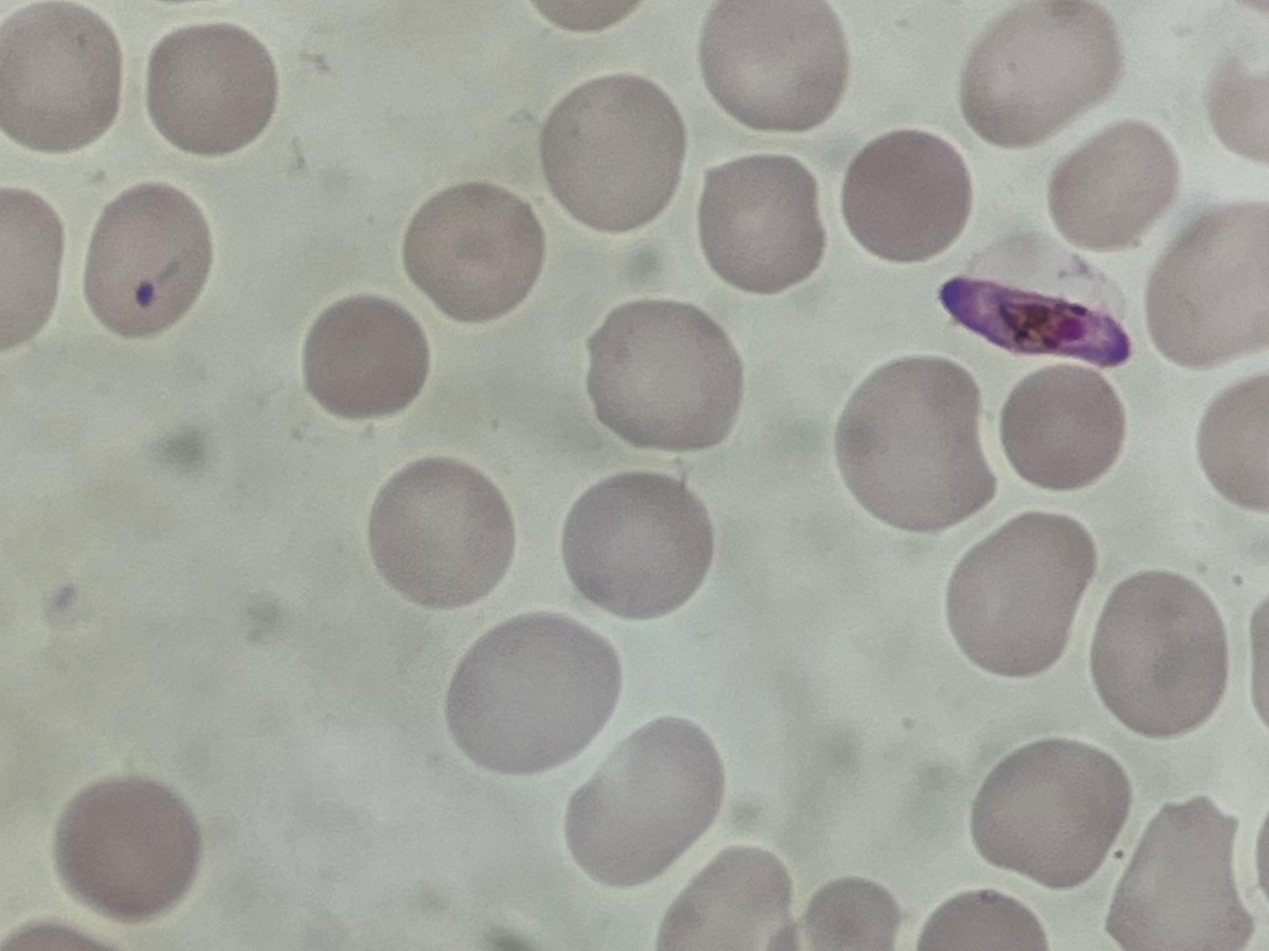Infected: (940, 230, 1132, 372)
Uninfected: (443, 613, 620, 775), (836, 357, 995, 531), (562, 716, 723, 882), (952, 511, 1097, 678), (587, 301, 744, 454), (540, 73, 687, 233), (962, 7, 1124, 152), (370, 455, 520, 610), (972, 741, 1130, 888), (560, 475, 715, 621), (1110, 795, 1254, 951), (1091, 572, 1227, 732), (81, 182, 212, 341), (53, 777, 200, 917), (1147, 210, 1269, 376), (701, 0, 848, 135), (403, 184, 545, 321), (0, 0, 122, 155), (697, 156, 820, 294), (145, 27, 276, 156), (1046, 124, 1181, 249), (844, 129, 969, 264), (302, 296, 433, 422), (653, 843, 801, 951), (996, 365, 1119, 489)
